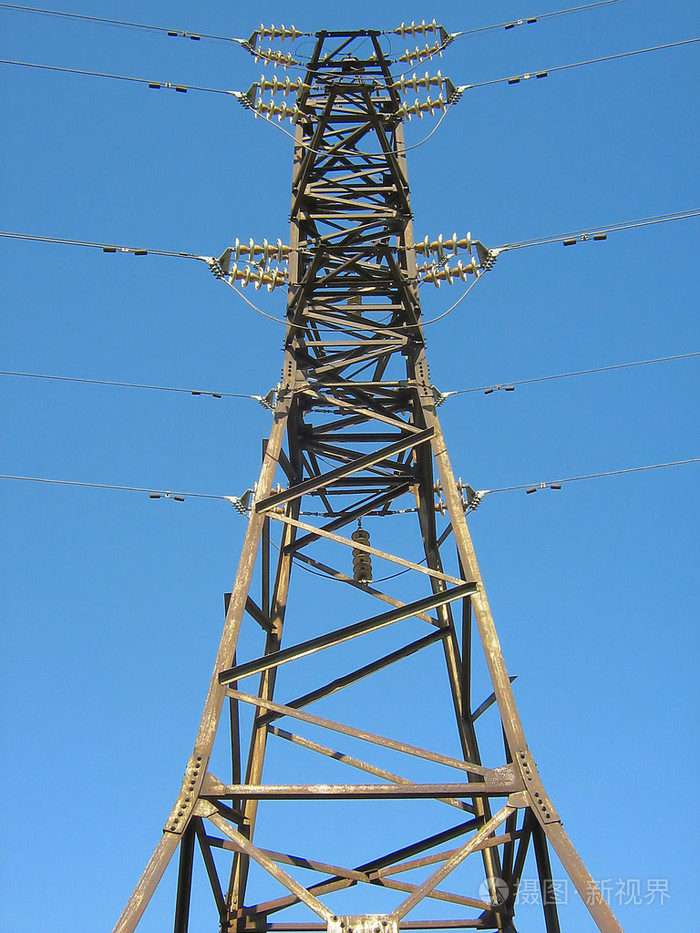insulator: (223, 264, 281, 296), (424, 256, 481, 287), (347, 528, 380, 581), (227, 235, 287, 264), (419, 232, 478, 259), (248, 97, 301, 126), (396, 95, 451, 122), (252, 73, 305, 98), (400, 69, 449, 93), (251, 43, 295, 69), (402, 40, 442, 66), (395, 17, 440, 38), (255, 22, 297, 43)
